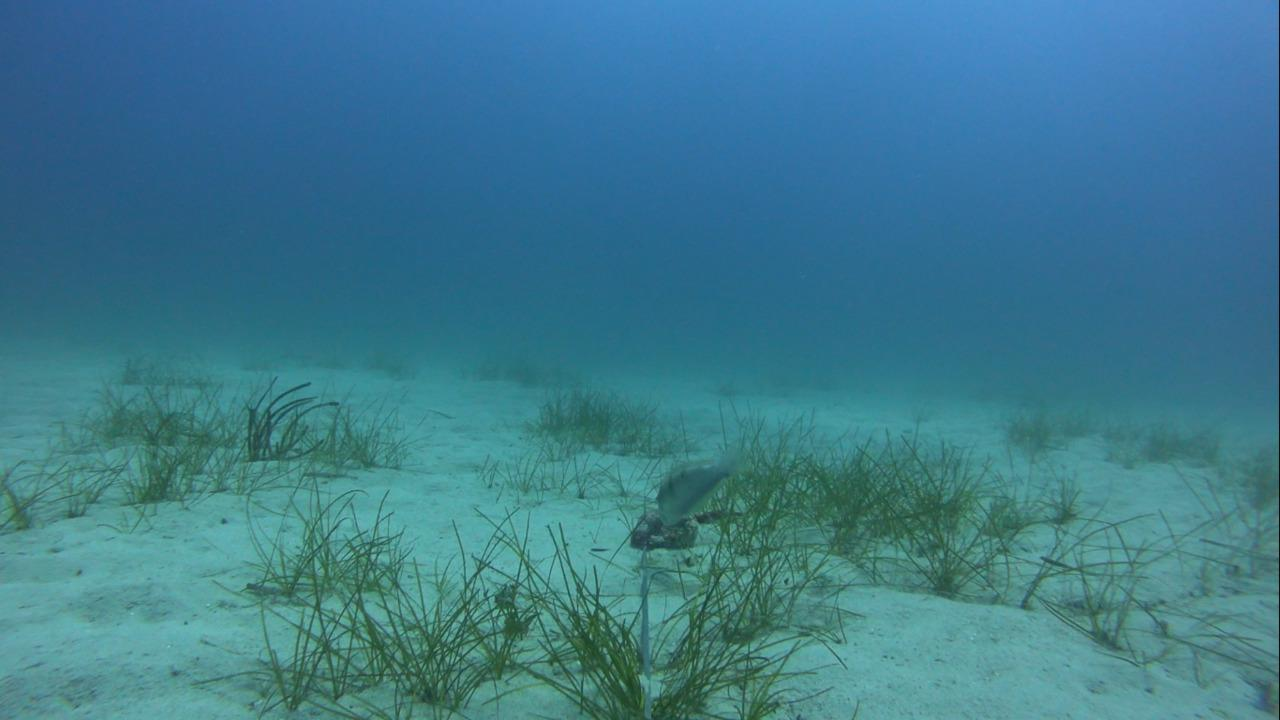raor: (652, 446, 743, 529)
